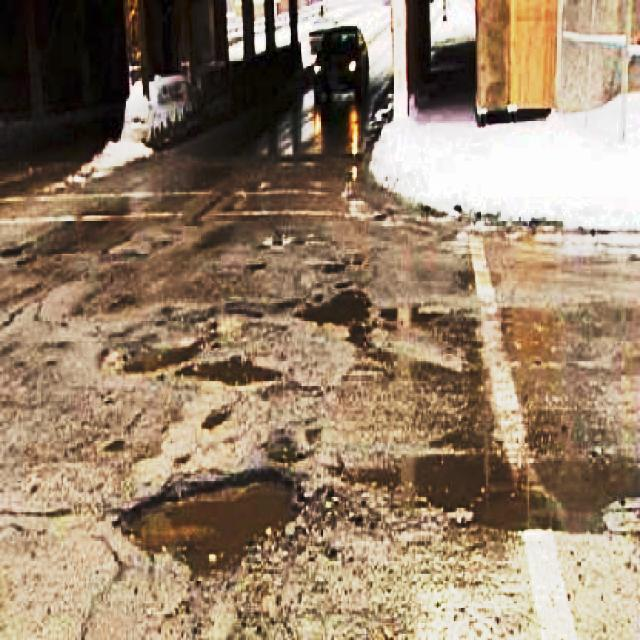pothole: (346, 431, 640, 538), (112, 468, 314, 575), (180, 352, 297, 394), (294, 286, 378, 339), (117, 346, 205, 377)
